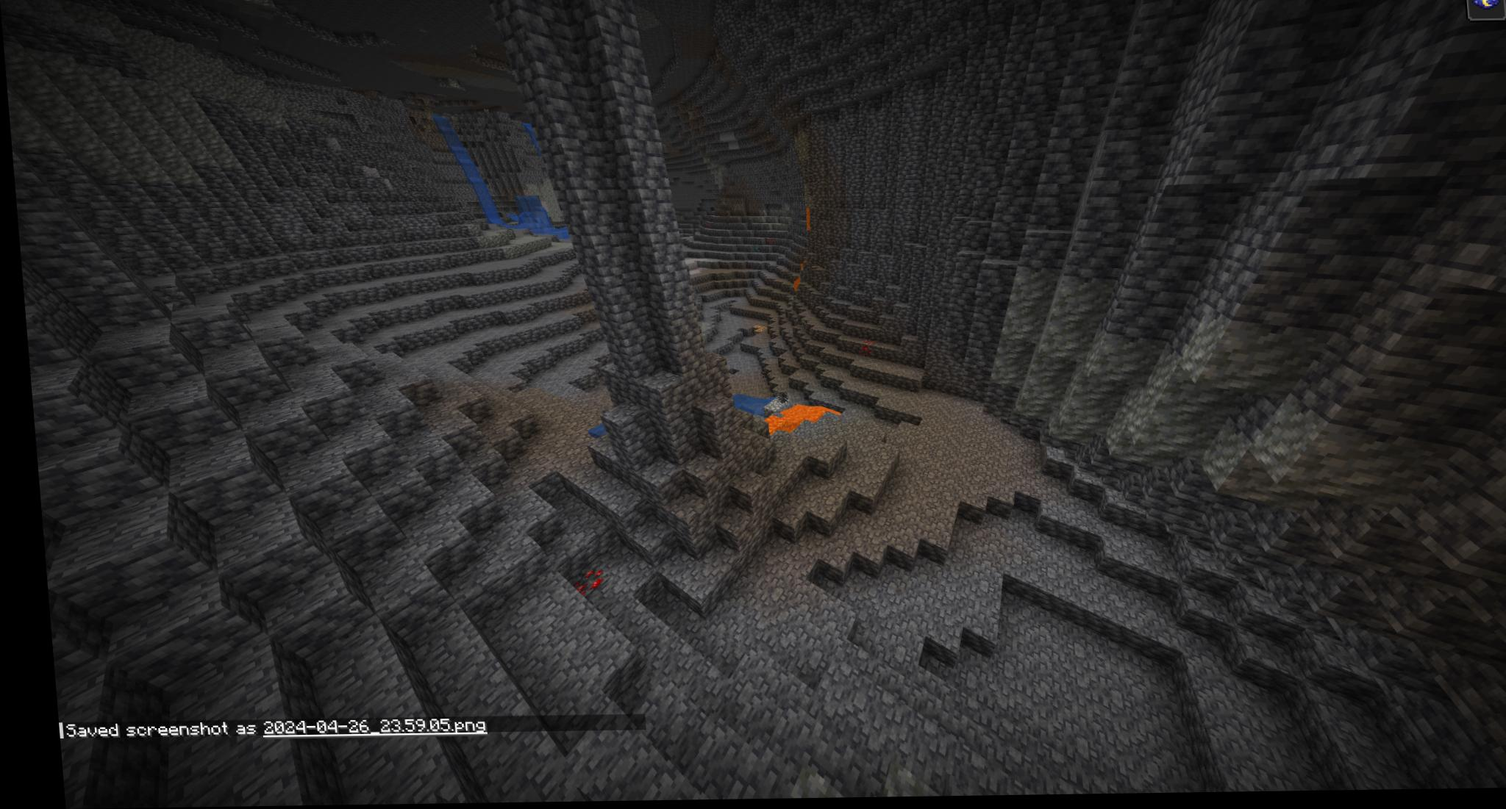gold ore: (740, 320, 765, 341)
redstone ore: (558, 564, 601, 601), (846, 338, 874, 363)
